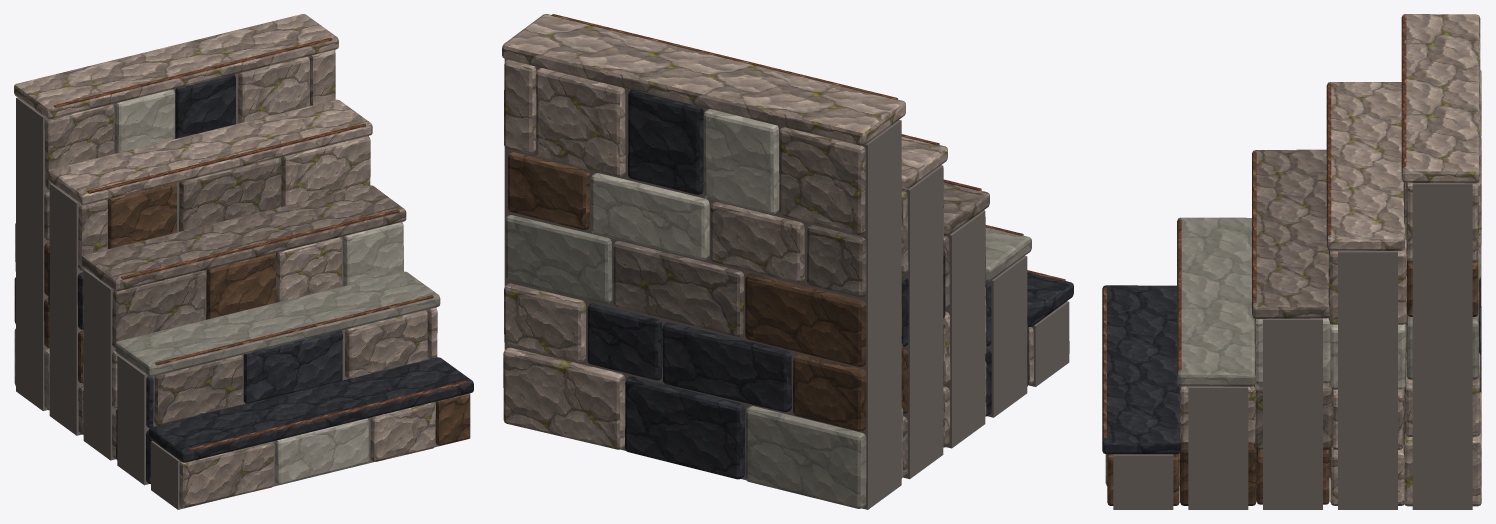
The model's file is stairs__cut_stone.glb.
The picture shows the model from 3 angles, left to right: view 1: azimuth 30°, elevation 25°; view 2: azimuth 150°, elevation 25°; view 3: azimuth 270°, elevation 25°; orthographic projection. The views are drawn at different scales.
Parts seen in each view (by area): view 1: model; view 2: model; view 3: model.
Boxes of the visible parts, left/top/right/bottom form: model: left=14, top=14, right=473, bottom=509; model: left=502, top=14, right=1073, bottom=509; model: left=1102, top=14, right=1481, bottom=509.
Size of the model in its own units: 2 by 2.01 by 2.03.
11 materials, 10 textured.
